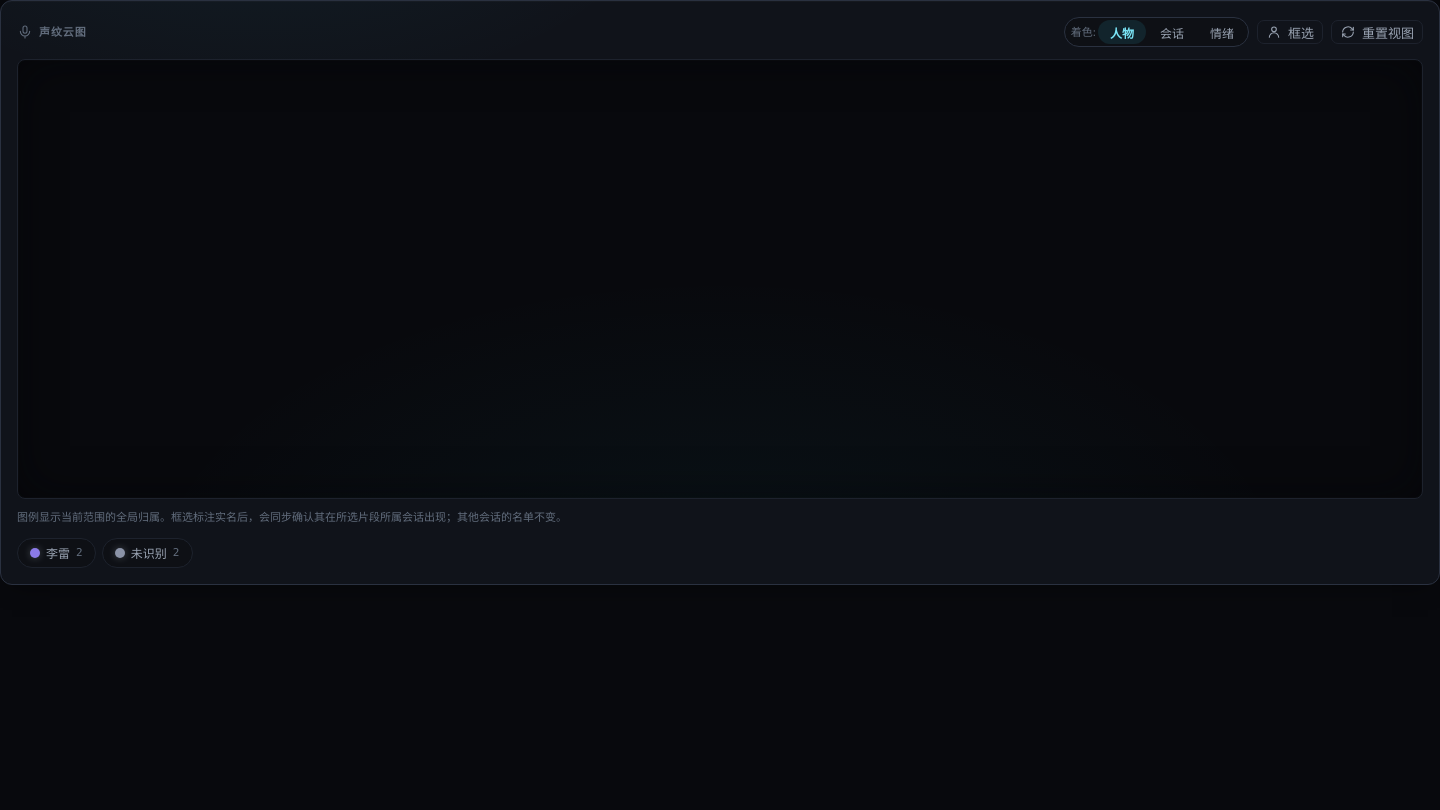
VoiceprintMap › entering select mode reveals the 标注 toolbar, disabled until a person + selection exist
This screenshot has width=1440, height=810.
Expected: the list named "图例" is shown, [17, 538, 192, 568]
Click the button "框选" at (1290, 32), box [1257, 20, 1323, 44]
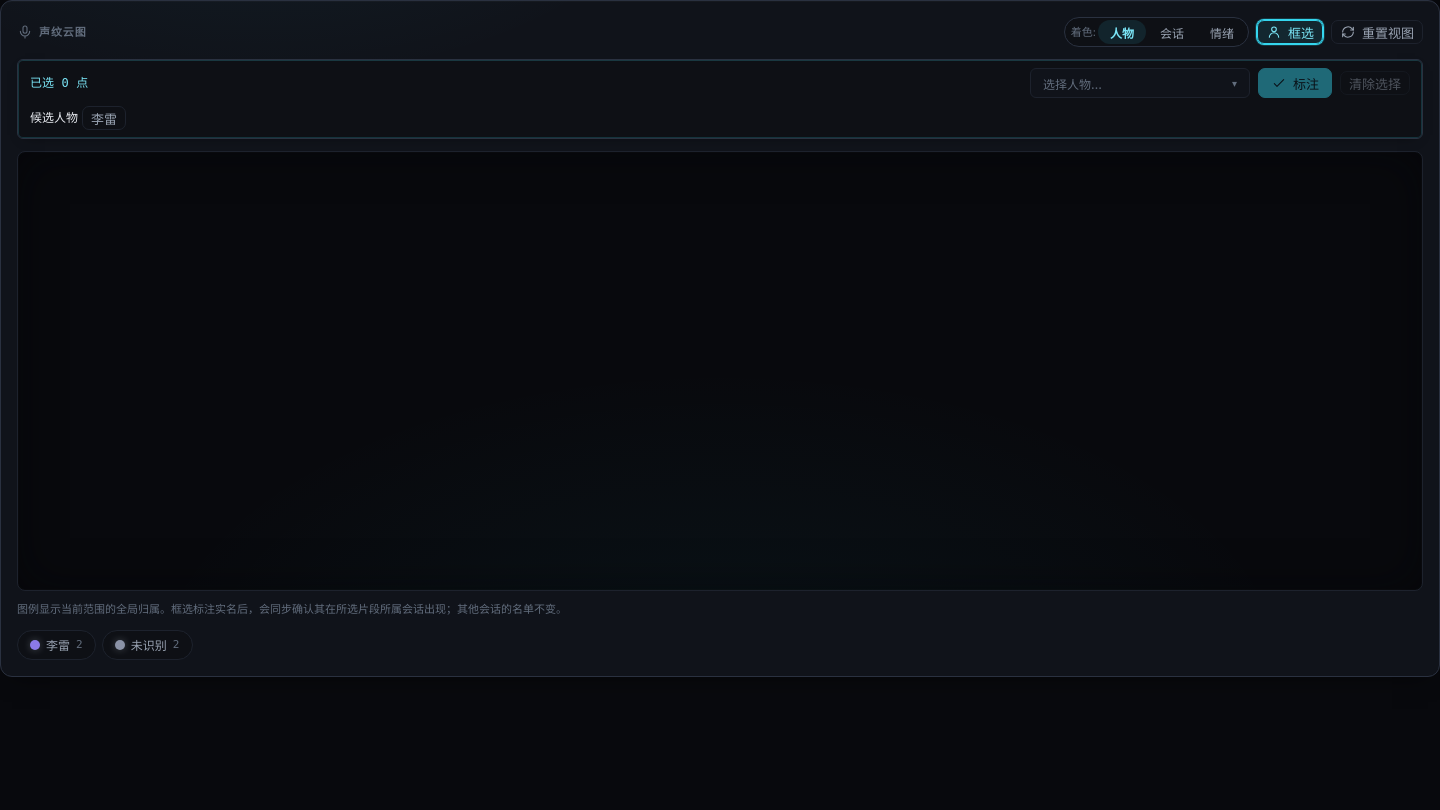
Expected: the element named "标注选中" is shown, [17, 59, 1423, 139]
Click the button "李雷" at (104, 118), box [82, 106, 126, 130]
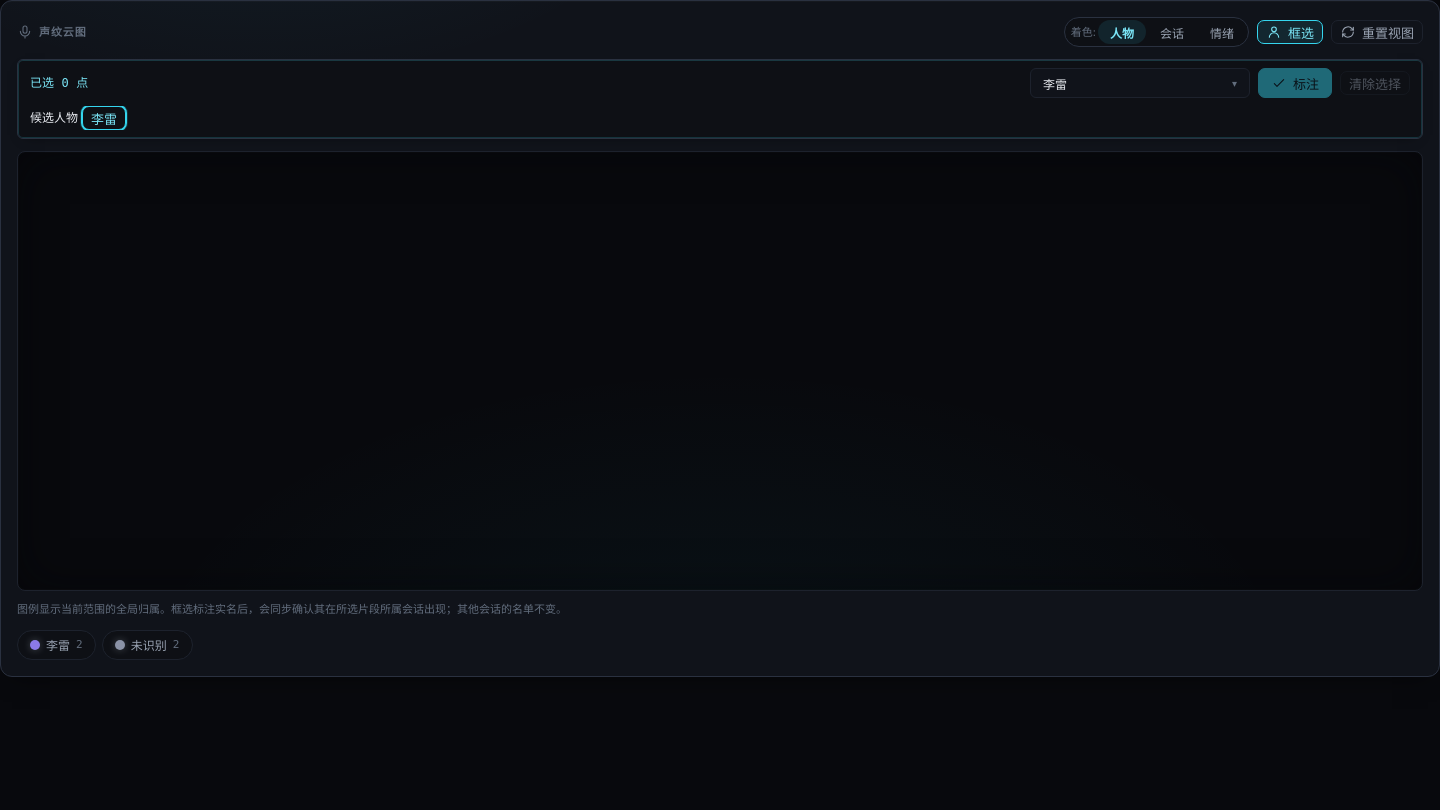
Expected: the button "标注" is disabled, [1258, 68, 1332, 98]
Expected: the text "已选 0 点" is shown, [30, 74, 88, 92]
Expected: the dropdown named "标注为" shows "李雷", [1030, 68, 1250, 98]
